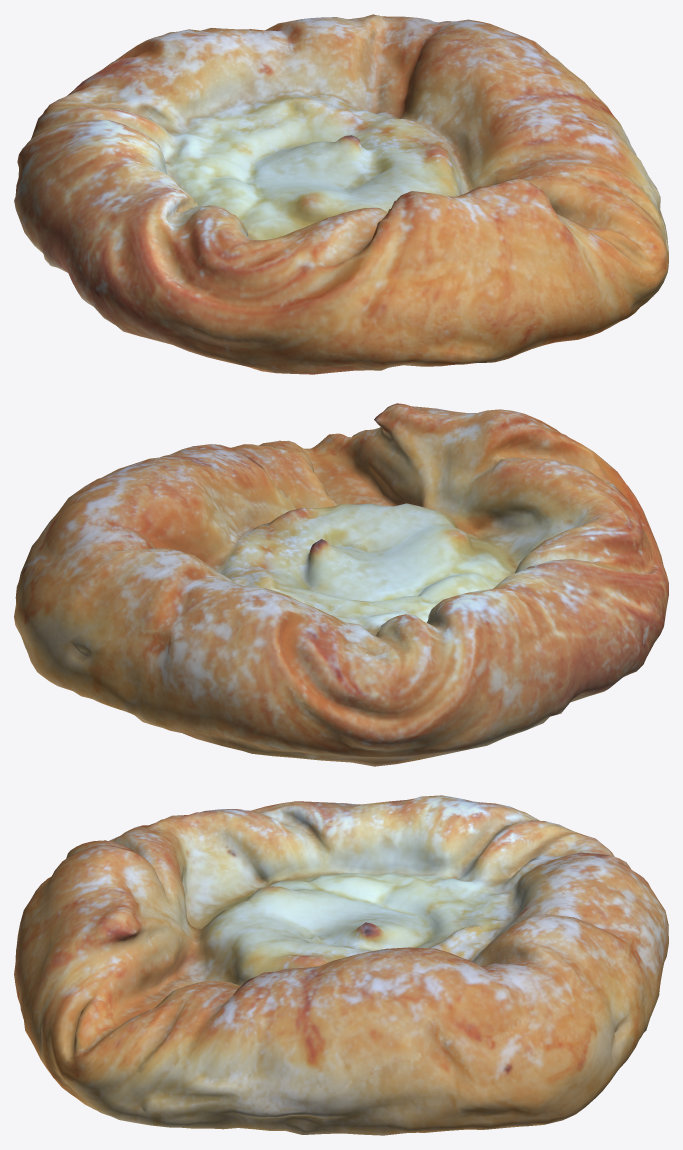
The model's file is BunWithCottageCheese.obj.
3 renders of one model, top to bottom at view 1: azimuth 30°, elevation 25°; view 2: azimuth 150°, elevation 25°; view 3: azimuth 270°, elevation 25°, orthographic.
Visible parts, largest first — view 1: ZBrush_defualt_group; view 2: ZBrush_defualt_group; view 3: ZBrush_defualt_group.
Part boxes in pixels (x1=…): ZBrush_defualt_group: x1=14, y1=14, x2=668, y2=374; ZBrush_defualt_group: x1=14, y1=403, x2=668, y2=766; ZBrush_defualt_group: x1=14, y1=795, x2=668, y2=1135.
Bounding box in the file's own units: 16.57 × 4.65 × 17.15.
Materials: 1 (1 with a texture image).
